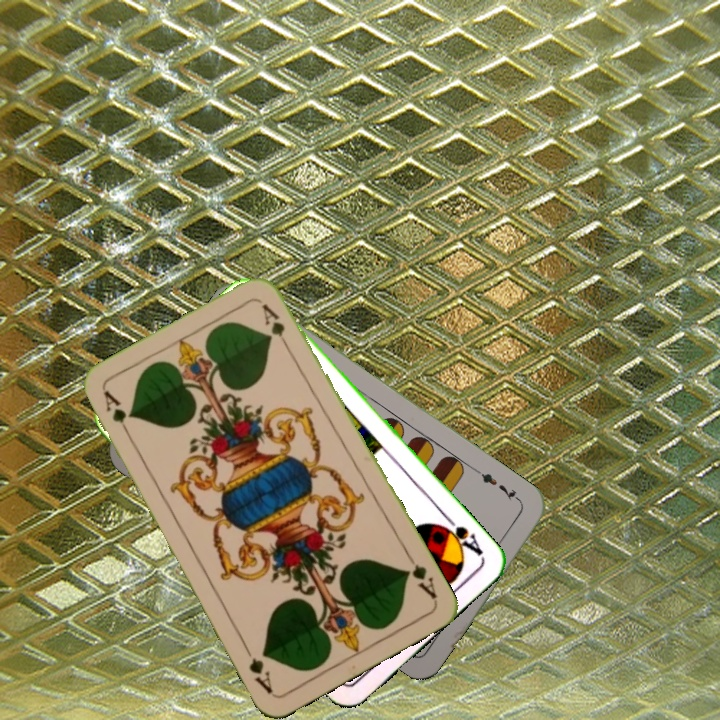E7: (474, 466, 525, 507)
GA: (400, 549, 440, 602), (99, 386, 135, 442)
SA: (435, 513, 486, 562)
